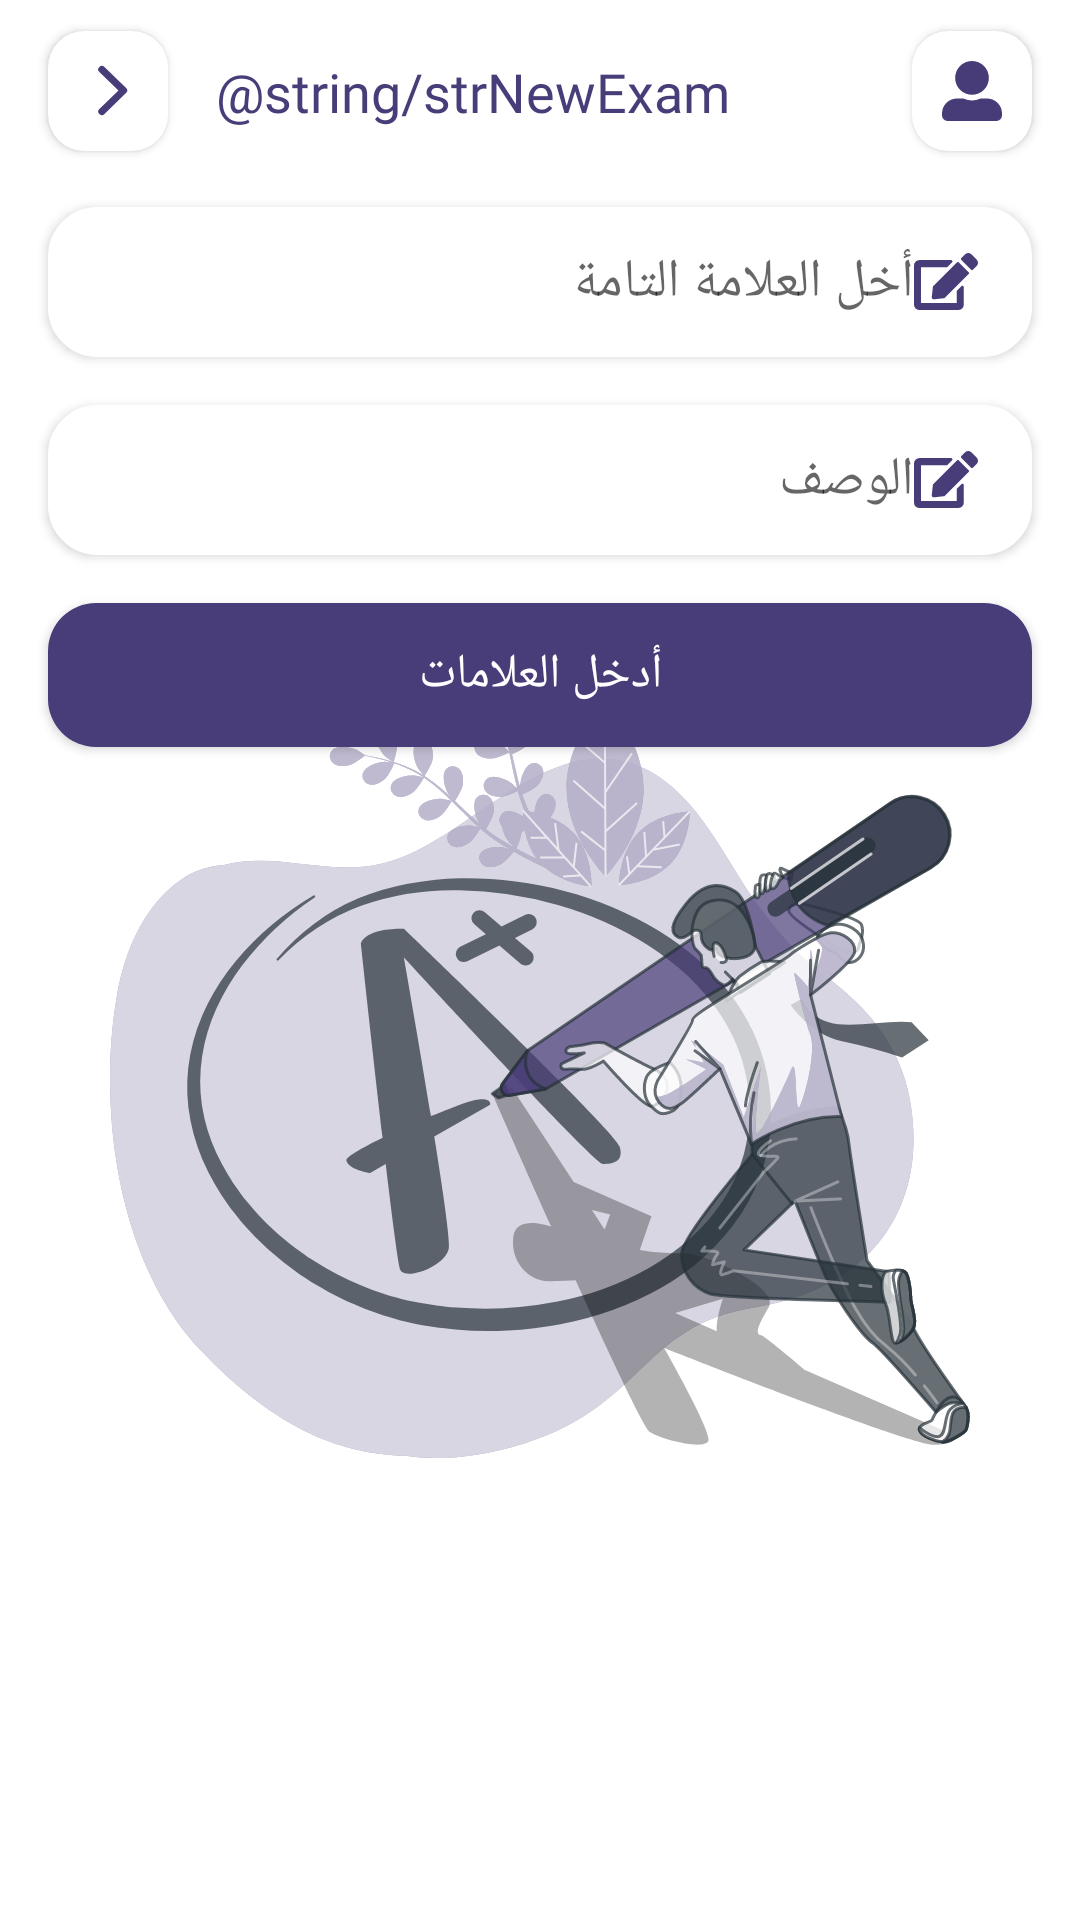

Locate icon controls on the screen. Image size 1080x1920, boxes as (x1, y1, x2, y2).
profile: (942, 61, 1002, 121)
